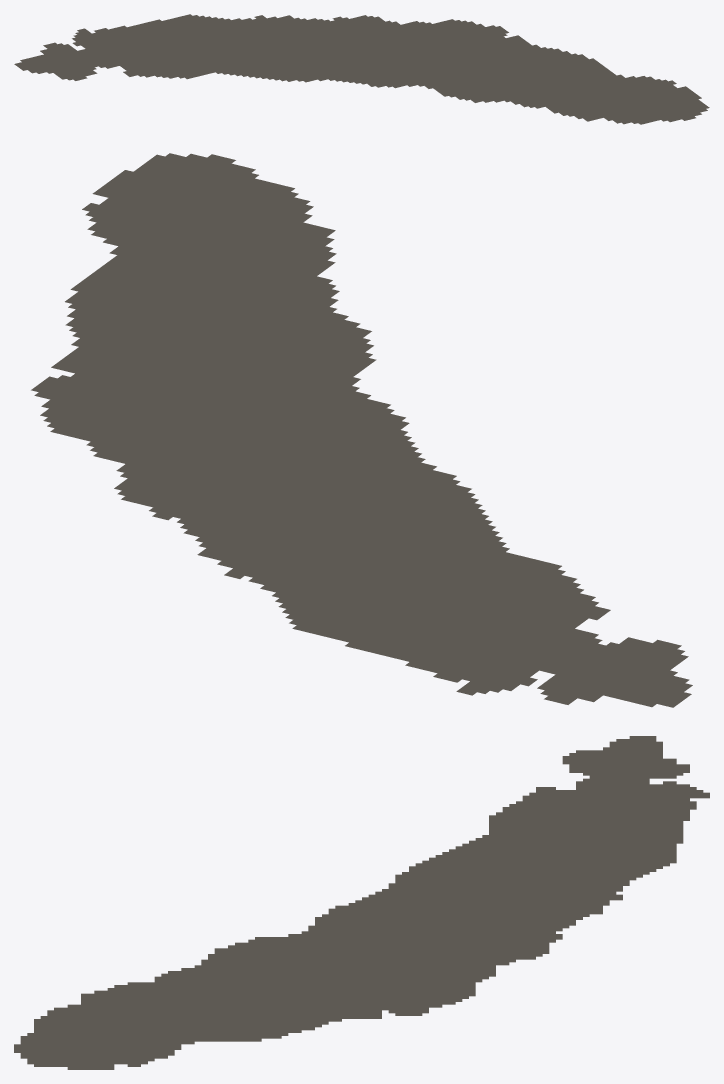
The model's file is Isl-long3-NoBuildArea.fbx.
3 renders of one model, top to bottom at view 1: azimuth 30°, elevation 25°; view 2: azimuth 150°, elevation 25°; view 3: azimuth 270°, elevation 25°, orthographic. The views are drawn at different scales.
Visible parts, largest first — view 1: Isl-long3-NoBuildArea; view 2: Isl-long3-NoBuildArea; view 3: Isl-long3-NoBuildArea.
Boxes of the visible parts, box(x1,y1,x2,y2) form: Isl-long3-NoBuildArea: box(14, 14, 709, 124); Isl-long3-NoBuildArea: box(31, 153, 692, 707); Isl-long3-NoBuildArea: box(14, 736, 709, 1069).
Size of the model in its own units: 118 by 0 by 104.
